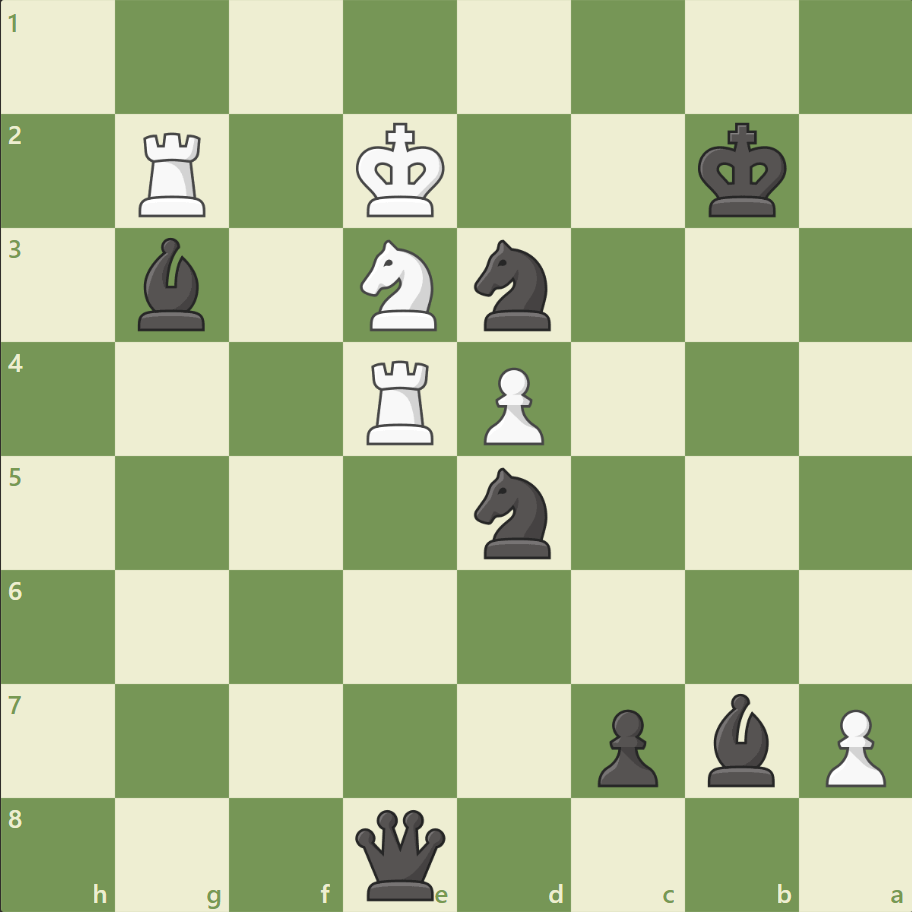K: (351, 117, 451, 225)
N: (351, 234, 449, 337)
P: (474, 359, 549, 450), (815, 700, 889, 791)
R: (360, 352, 442, 449), (133, 125, 215, 222)
b: (698, 687, 782, 790), (131, 233, 215, 336)
k: (692, 117, 792, 225)
n: (465, 461, 562, 564), (465, 234, 562, 337)
p: (588, 700, 662, 791)
q: (351, 804, 450, 903)
